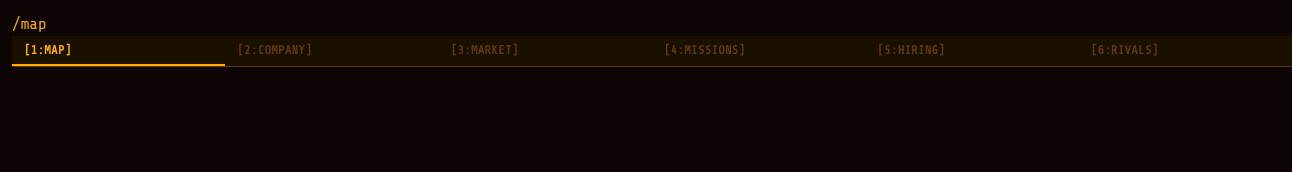
Test: TabBar › navigates when a tab is clicked
Click the tab "[3:Market]": {"x": 485, "y": 50} [451, 43, 518, 57]
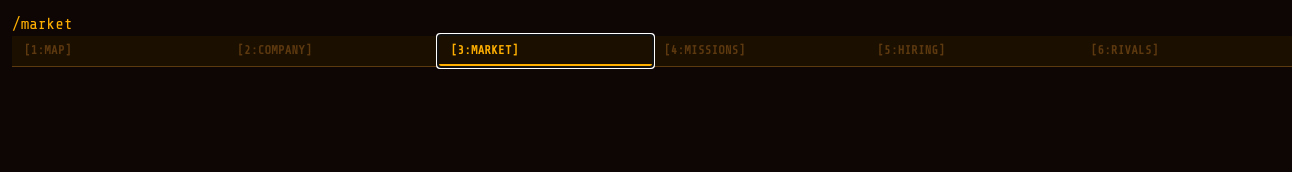
Check: the text "/market" is shown, box [12, 15, 72, 33]
